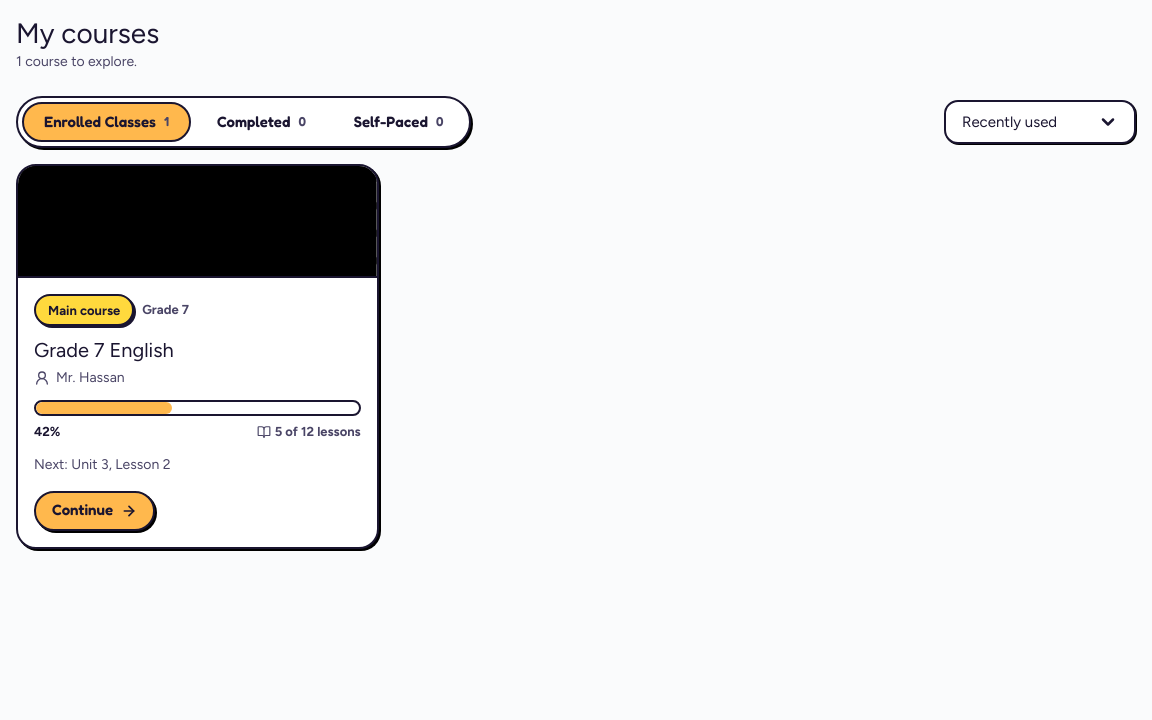
Scenario: CoursesPage › explains an empty tab instead of showing a blank page
Expected: the link "Grade 7 English" is shown, [34,338,174,362]
Click the tab "Completed 0" at [261, 122], box [195,102,328,142]
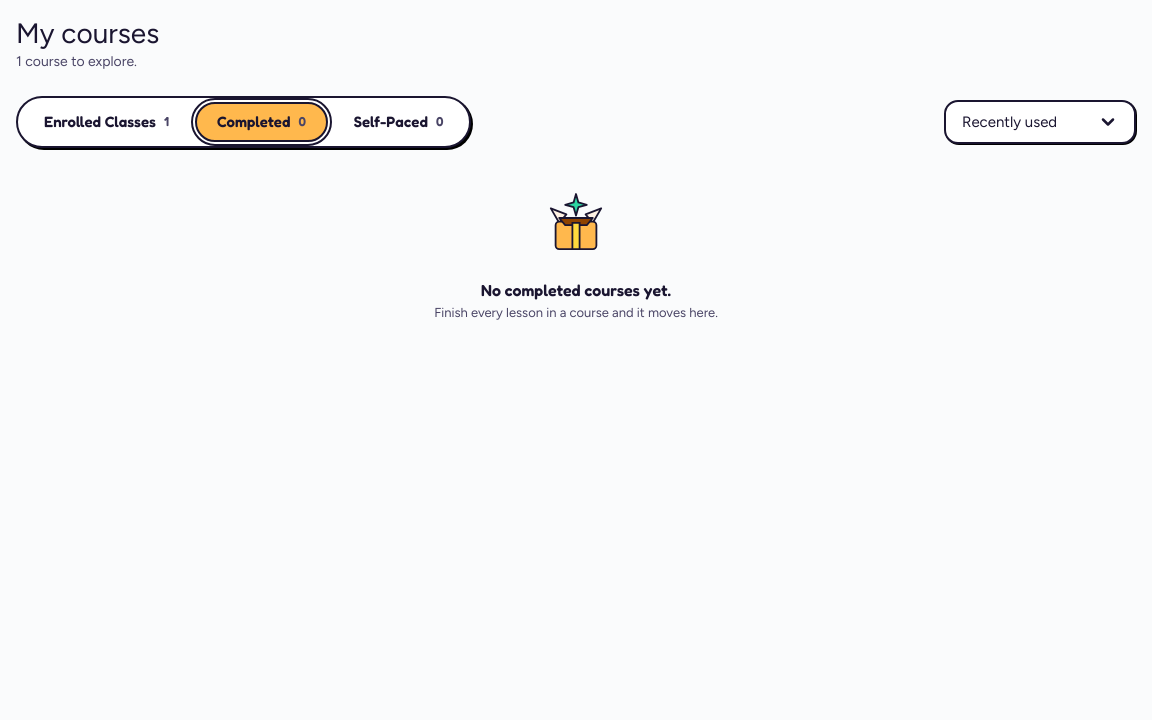
Expected: the heading "No completed courses yet." is shown, [481,280,671,300]
